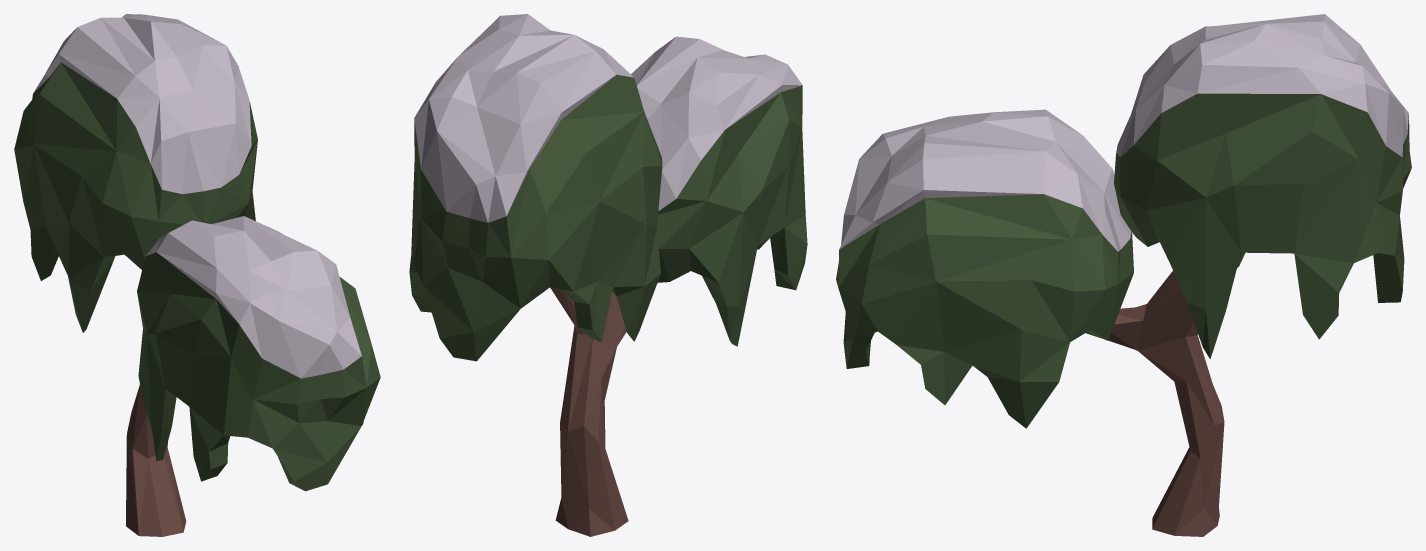
File: Willow_Snow_5.lod1.glb
3 views of the same model, side by side, from view 1: azimuth 30°, elevation 25°; view 2: azimuth 150°, elevation 25°; view 3: azimuth 270°, elevation 25° (orthographic). The views are drawn at different scales.
Visible parts, largest first — view 1: Willow_Snow_5; view 2: Willow_Snow_5; view 3: Willow_Snow_5.
Part boxes in pixels (box(x1,y1,x2,y2)): Willow_Snow_5: box(14, 14, 380, 536); Willow_Snow_5: box(409, 14, 807, 536); Willow_Snow_5: box(836, 14, 1411, 536).
Bounding box in the file's own units: 1.01 × 2.46 × 2.49.
